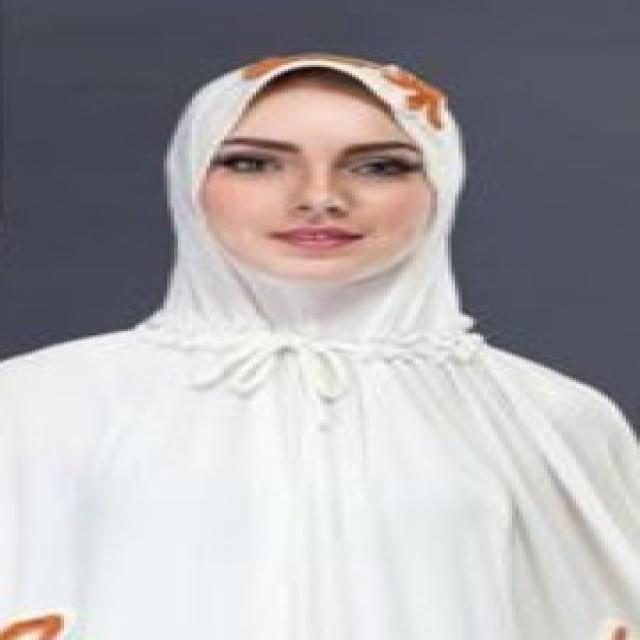head: (163, 50, 495, 291)
